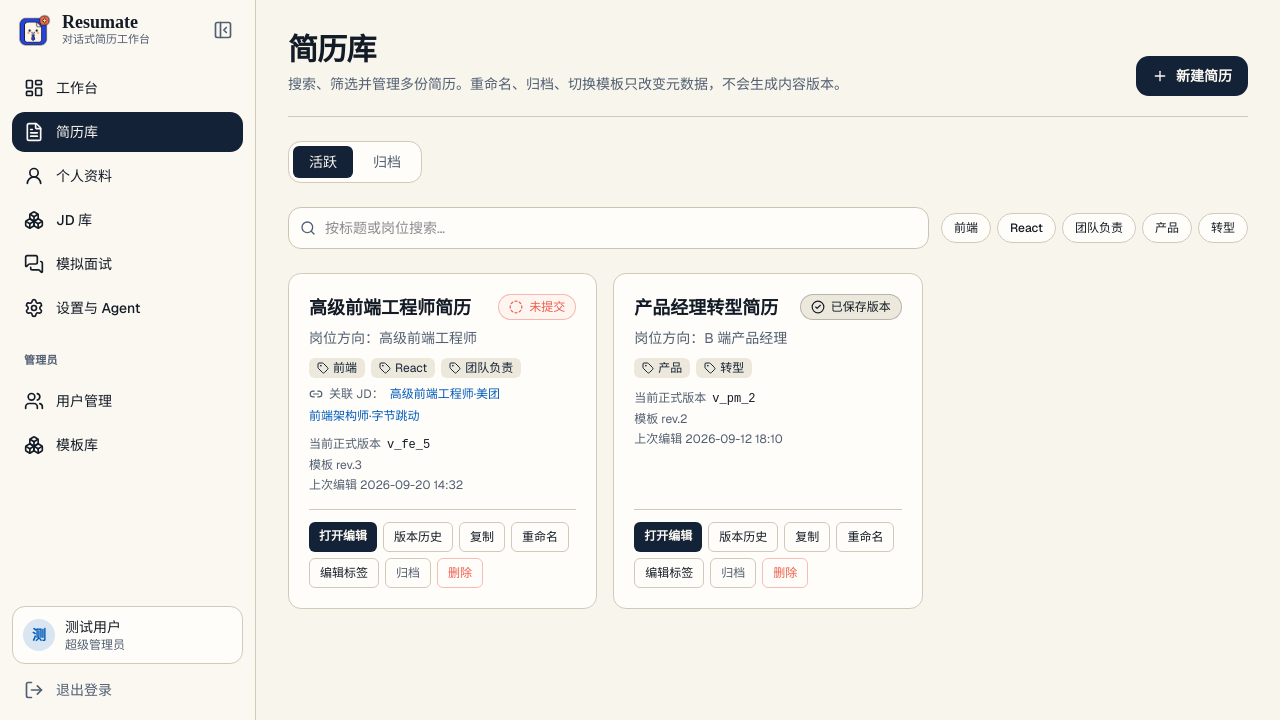
Test: 简历库：网格卡片布局 › 归档卡片保留归档徽标且操作文案是恢复
The width and height of the screenshot is (1280, 720).
Note: 「归档」既是页签也是卡片操作：页签在 DOM 中先出现，这里精确点页签。
Click the 1st button "归档" at [387, 162], box x1=357 y1=146 x2=417 y2=178
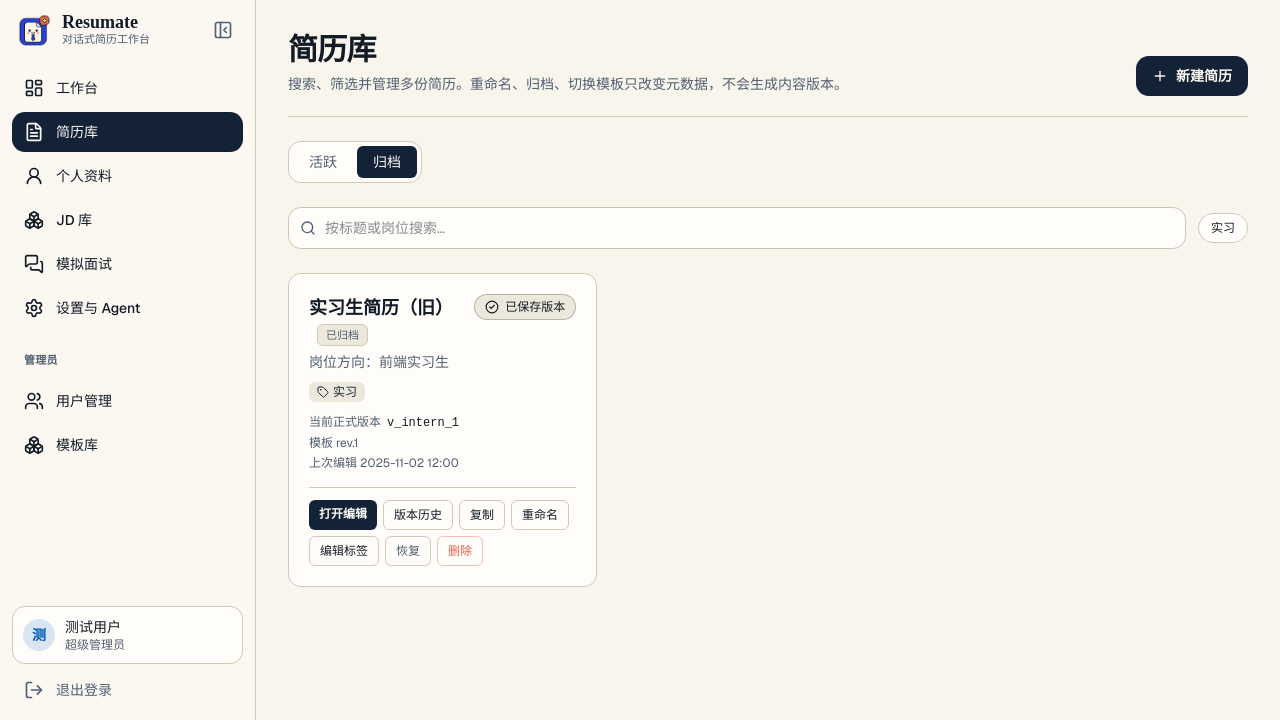
Now the list item "实习生简历（旧）" is shown, box x1=288 y1=273 x2=597 y2=587
Now the list item "实习生简历（旧）" shows "已归档", box x1=326 y1=328 x2=359 y2=342
Now the list item "实习生简历（旧）" shows "恢复", box x1=385 y1=536 x2=431 y2=566
